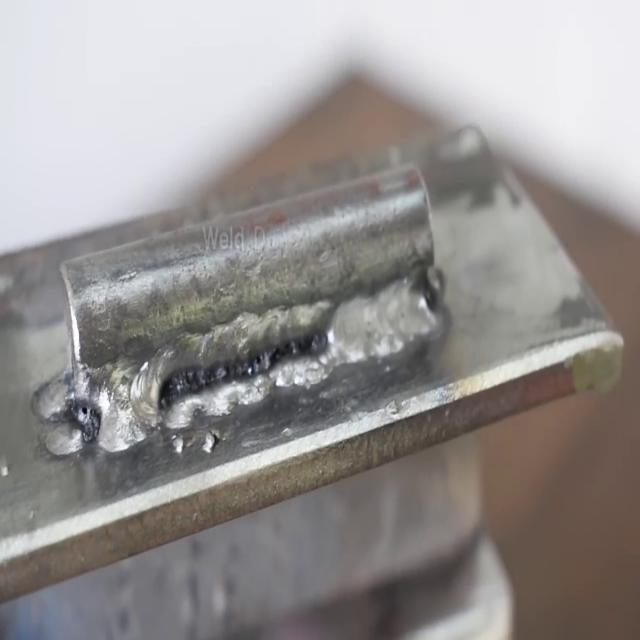Bad Welding: (36, 274, 432, 454)
Porosity: (156, 326, 328, 412), (63, 386, 104, 444)
